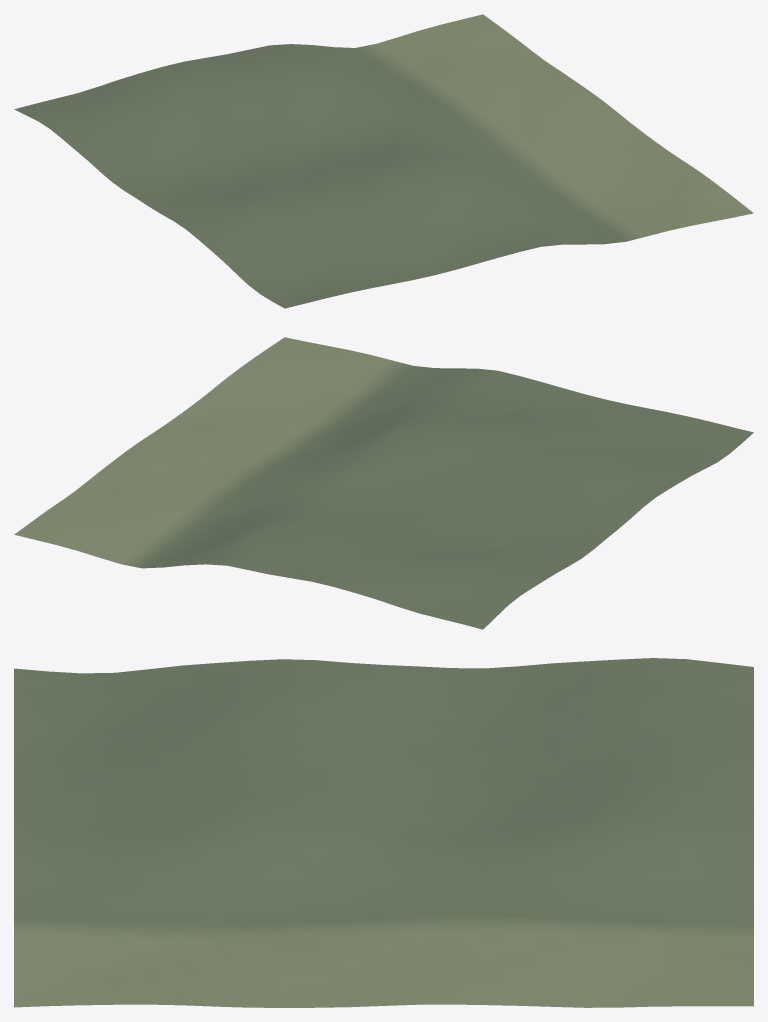
Rendered from q2_coarse.glb.
The picture shows the model from 3 angles, top to bottom: view 1: azimuth 30°, elevation 25°; view 2: azimuth 150°, elevation 25°; view 3: azimuth 270°, elevation 25°; orthographic projection. The views are drawn at different scales.
Bounding box in the file's own units: 600 × 42.37 × 600.
